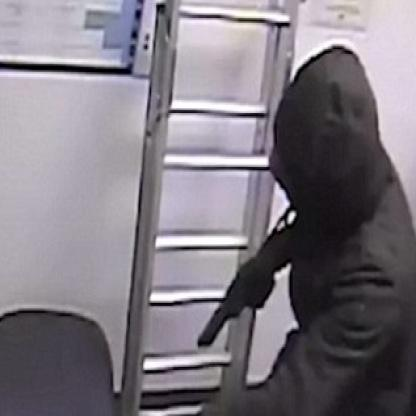gun: (183, 223, 280, 349)
